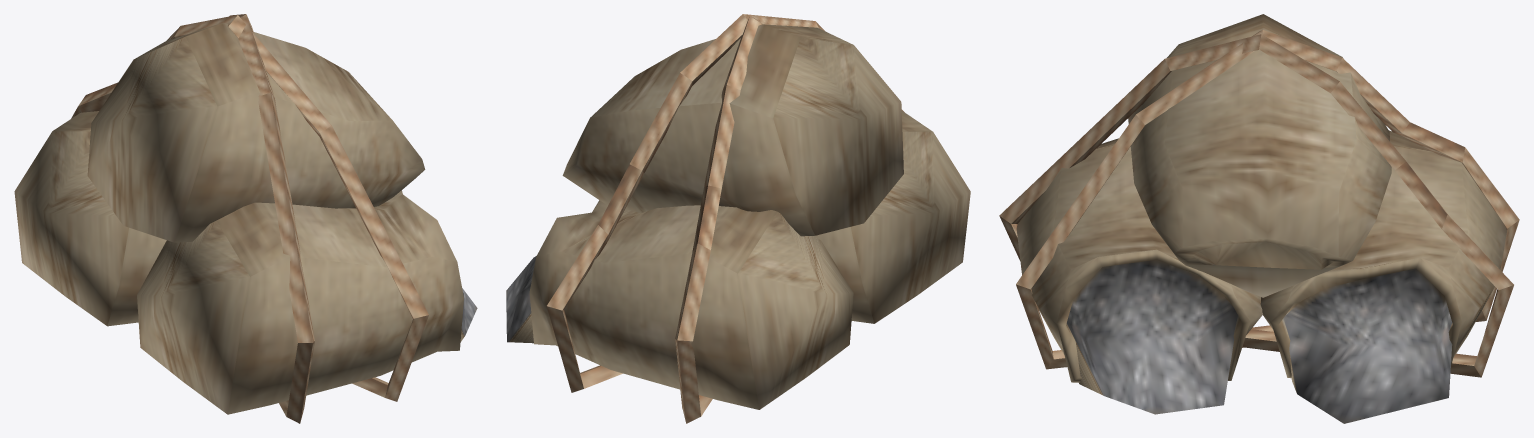
Rendered from stack_of_gravel_bags.fbx.
3 views of the same model, side by side, from view 1: azimuth 30°, elevation 25°; view 2: azimuth 150°, elevation 25°; view 3: azimuth 270°, elevation 25° (orthographic).
Parts seen in each view (by area): view 1: GravelBagStack; view 2: GravelBagStack; view 3: GravelBagStack.
Boxes of the visible parts, x1,y1,x2,y2 form: GravelBagStack: (14, 14, 477, 423); GravelBagStack: (506, 14, 970, 423); GravelBagStack: (999, 14, 1519, 423).
Size of the model in its own units: 0.5457 by 0.4911 by 0.734.
